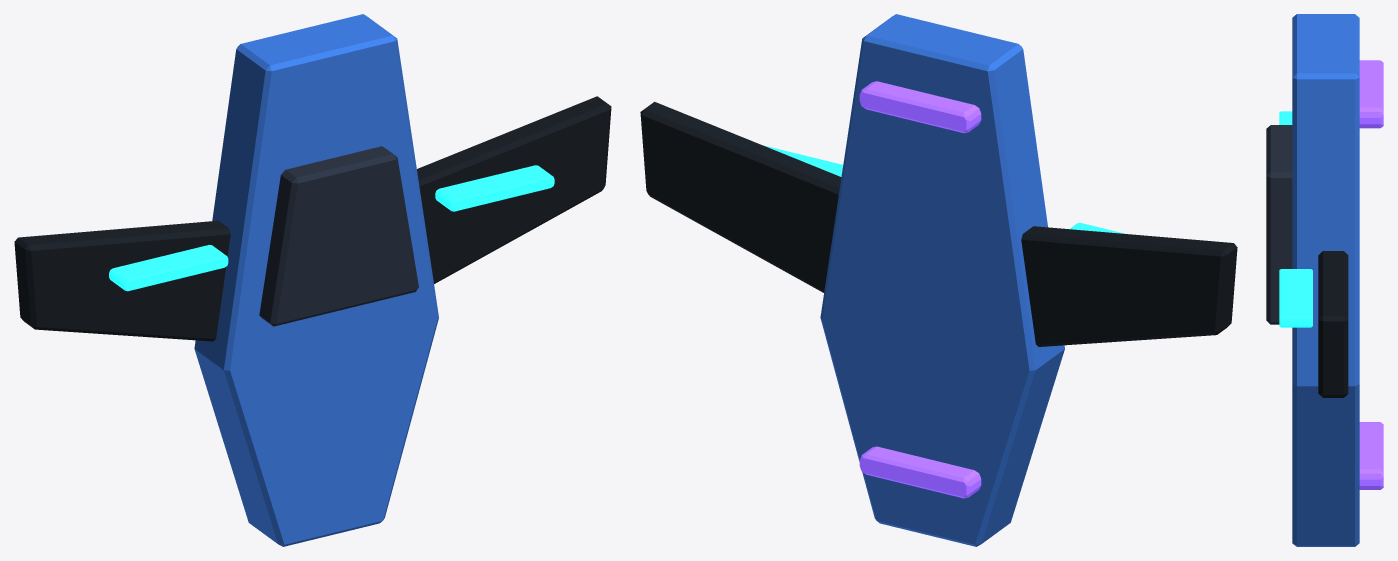
The model's file is scroll-runner.glb.
The picture shows the model from 3 angles, left to right: view 1: azimuth 30°, elevation 25°; view 2: azimuth 150°, elevation 25°; view 3: azimuth 270°, elevation 25°; orthographic projection.
Parts seen in each view (by area): view 1: scroll-runner_CoreMaterial, scroll-runner_PanelMaterial, scroll-runner_SystemMaterial, scroll-runner_SignalMaterial; view 2: scroll-runner_CoreMaterial, scroll-runner_PanelMaterial, scroll-runner_AccentMaterial, scroll-runner_SignalMaterial; view 3: scroll-runner_CoreMaterial, scroll-runner_SystemMaterial, scroll-runner_PanelMaterial, scroll-runner_AccentMaterial, scroll-runner_SignalMaterial.
Part boxes in pixels (x1,y1,x2,y2): scroll-runner_CoreMaterial: [194, 14, 438, 546]; scroll-runner_PanelMaterial: [14, 96, 611, 341]; scroll-runner_SystemMaterial: [259, 146, 418, 326]; scroll-runner_SignalMaterial: [109, 165, 554, 291]; scroll-runner_CoreMaterial: [820, 14, 1064, 546]; scroll-runner_PanelMaterial: [640, 101, 1237, 346]; scroll-runner_AccentMaterial: [859, 81, 981, 498]; scroll-runner_SignalMaterial: [763, 145, 1125, 233]; scroll-runner_CoreMaterial: [1292, 14, 1359, 546]; scroll-runner_SystemMaterial: [1266, 125, 1292, 324]; scroll-runner_PanelMaterial: [1318, 251, 1348, 397]; scroll-runner_AccentMaterial: [1359, 60, 1383, 489]; scroll-runner_SignalMaterial: [1279, 111, 1312, 327].
Size of the model in its own units: 1.8 by 1.42 by 0.315.
